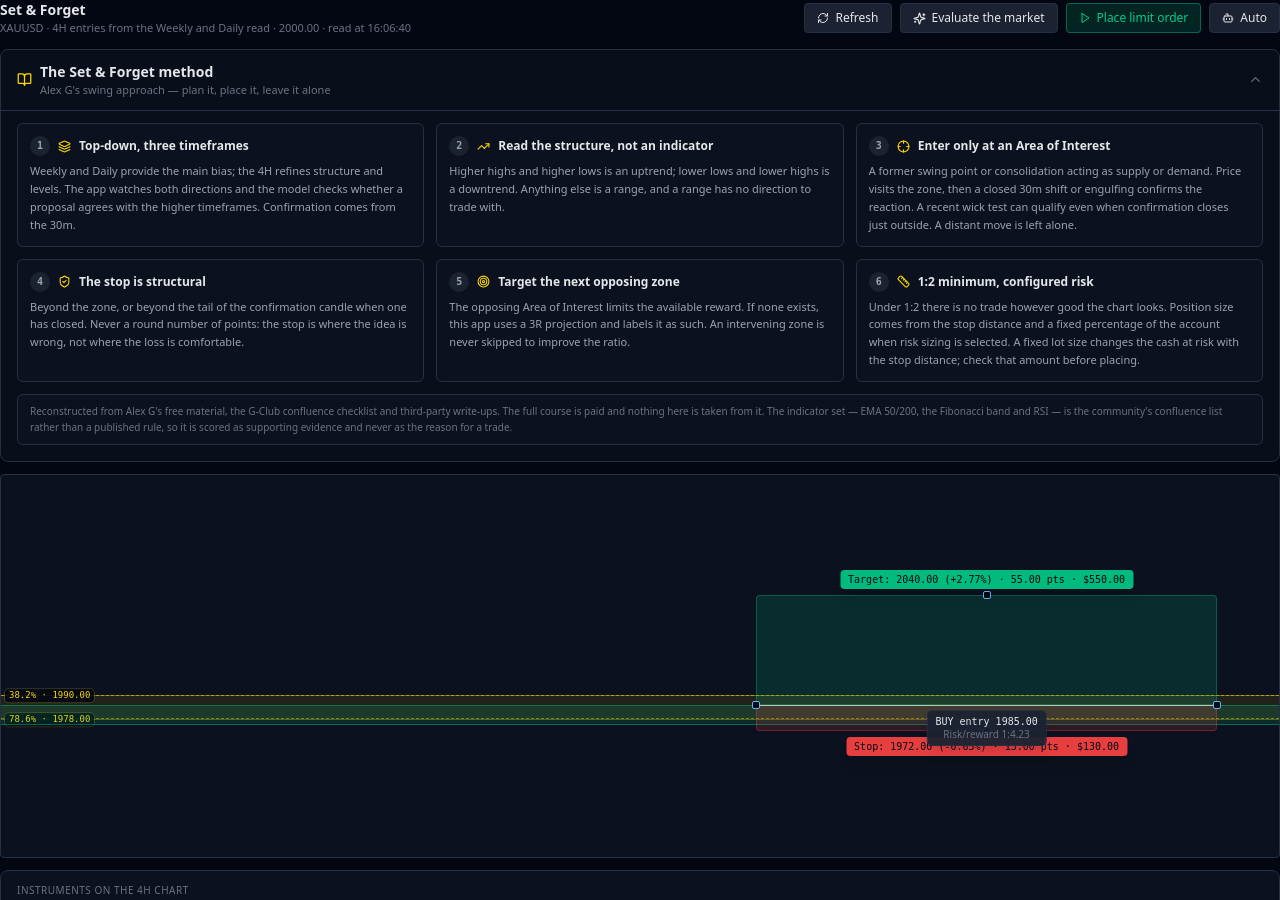
Test: placing the trade › surfaces a refusal from the broker verbatim
Click the button "Place limit order": (1133, 18) [1066,3,1201,33]
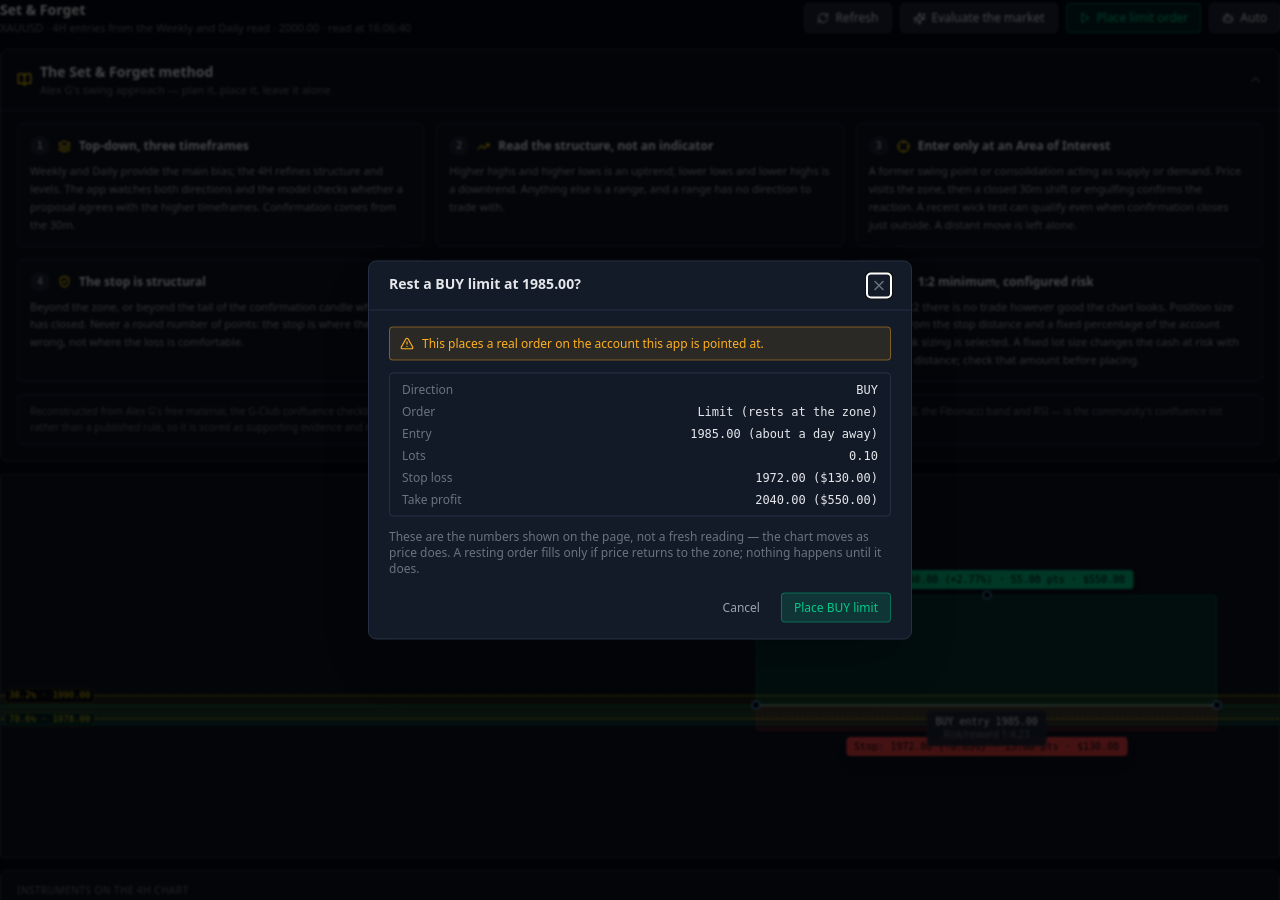
Click the button "Place BUY limit": (836, 608) [781,592,891,622]
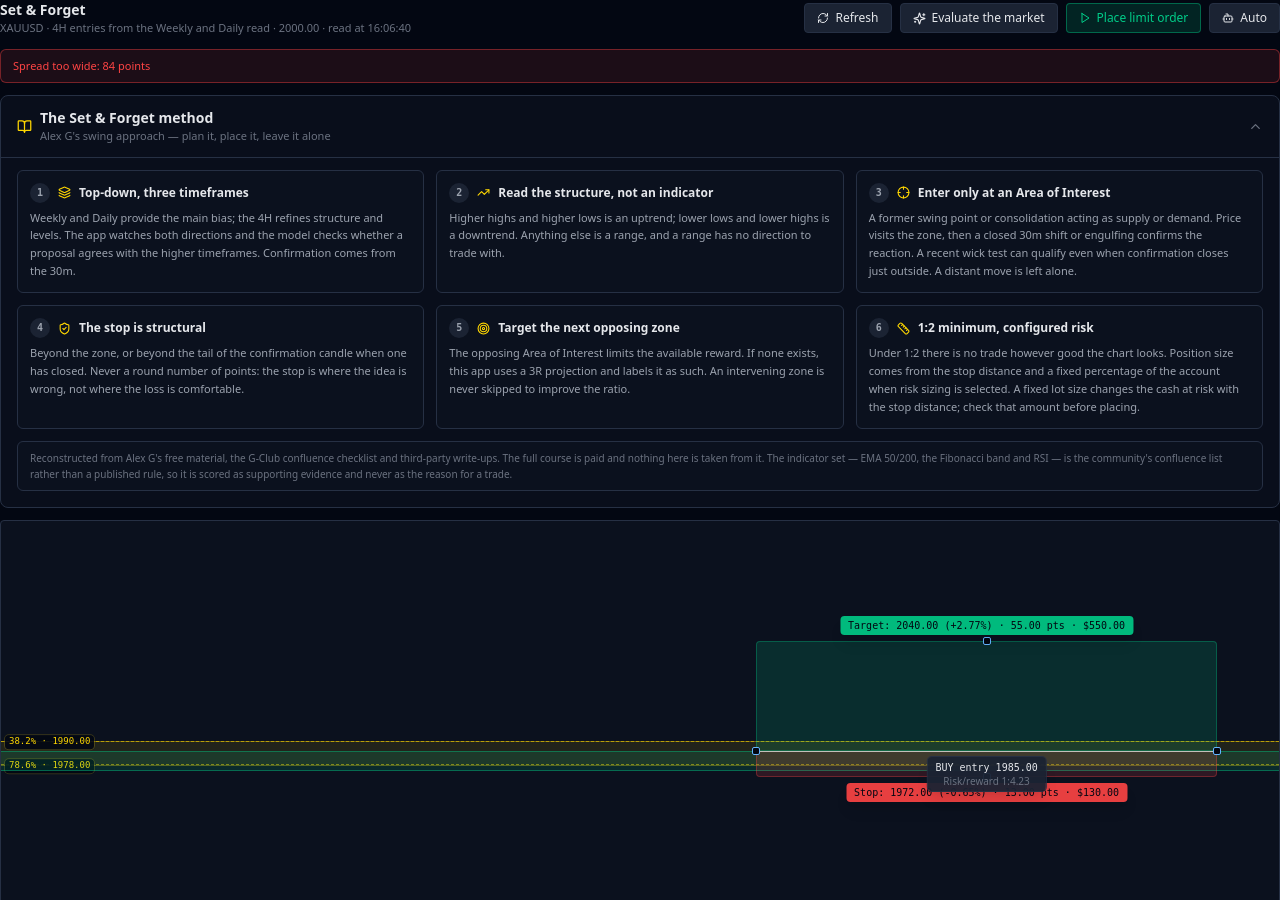
Now the message reads "Spread too wide: 84 points", box [13,58,150,72]
